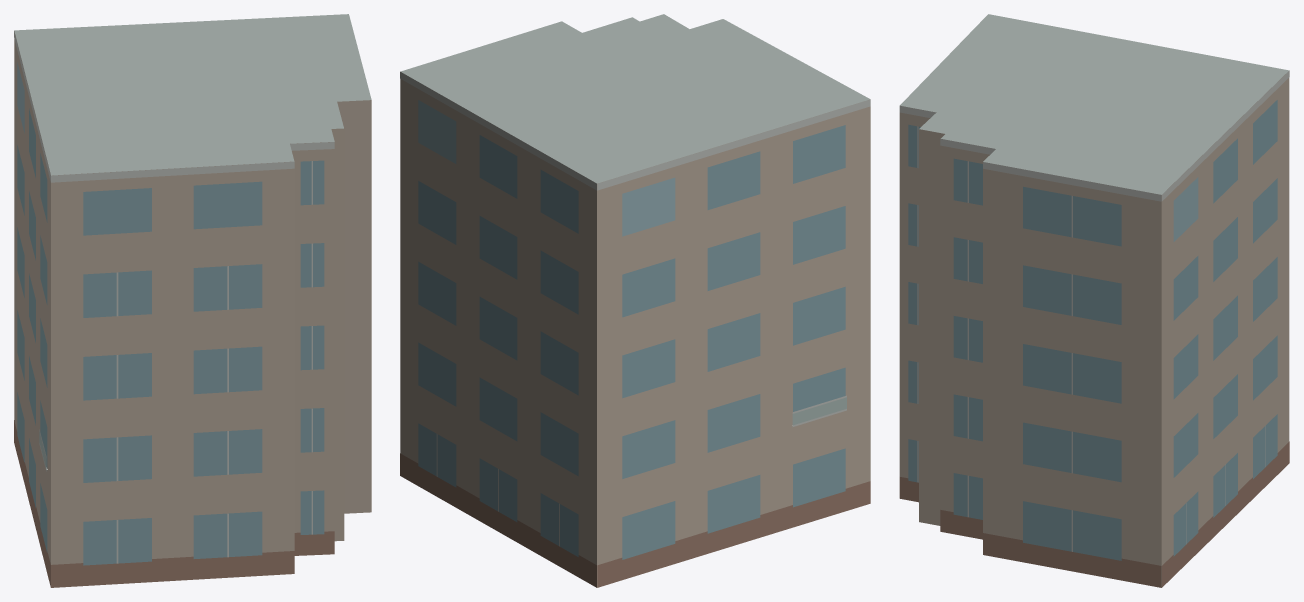
The model's file is survey-upis-33014186.glb.
The picture shows the model from 3 angles, left to right: view 1: azimuth 30°, elevation 25°; view 2: azimuth 150°, elevation 25°; view 3: azimuth 270°, elevation 25°; orthographic projection. The views are drawn at different scales.
Visible parts, largest first — view 1: survey-upis-33014186.tmp; view 2: survey-upis-33014186.tmp; view 3: survey-upis-33014186.tmp.
Boxes of the visible parts, <box> form: survey-upis-33014186.tmp: <box>14,14,371,587</box>; survey-upis-33014186.tmp: <box>400,14,870,587</box>; survey-upis-33014186.tmp: <box>899,14,1289,587</box>.
Size of the model in its own units: 13.83 by 14 by 12.59.
